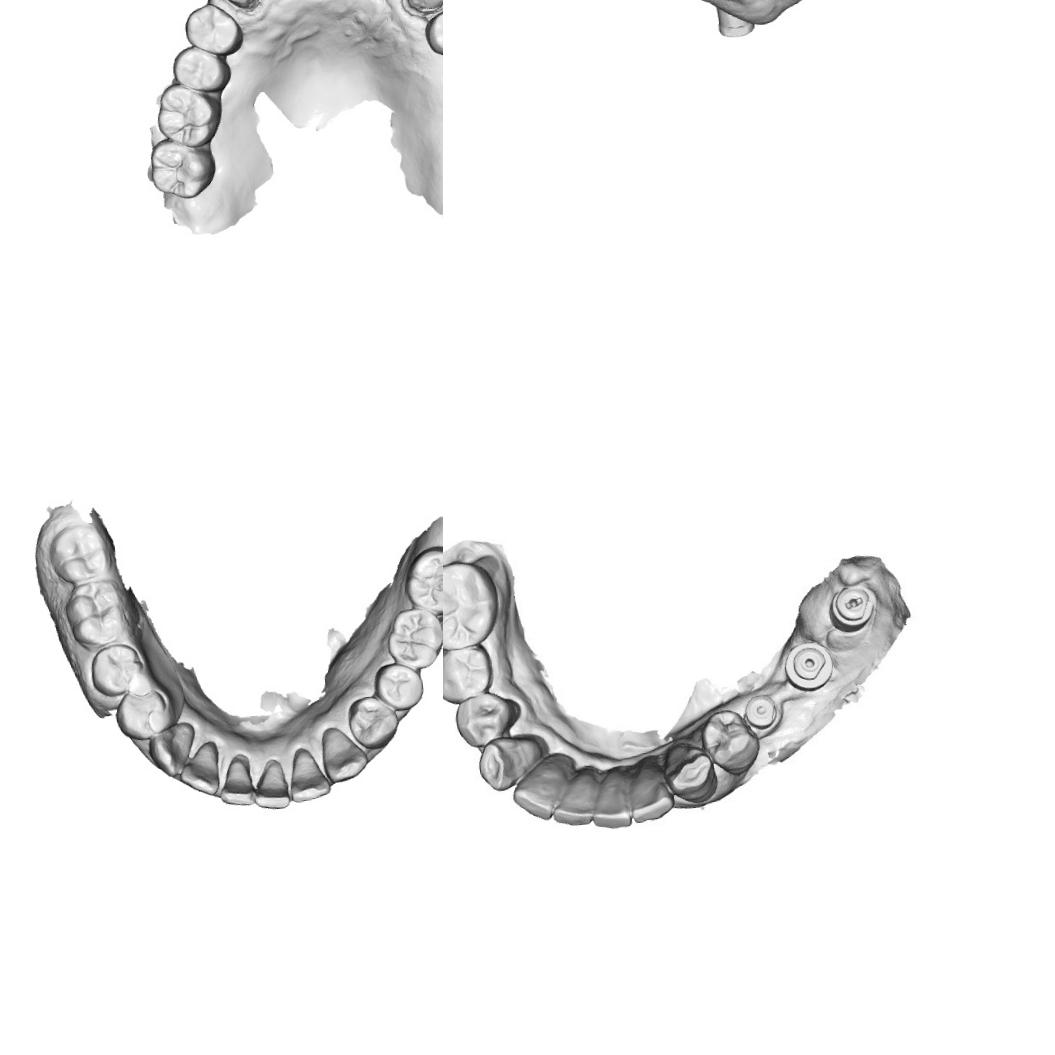canine: (476, 729, 553, 798), (658, 734, 724, 804), (316, 721, 370, 786), (146, 720, 202, 777)
crown: (403, 0, 443, 17), (216, 0, 260, 15)
implant: (781, 638, 838, 697), (737, 688, 784, 737), (715, 6, 756, 41)
implant_minus: (821, 580, 881, 638)
incisor: (507, 758, 576, 826), (587, 752, 637, 829), (624, 750, 676, 822), (552, 763, 604, 824), (248, 751, 292, 812), (178, 742, 222, 800), (288, 746, 331, 804), (212, 754, 256, 810)
molar: (151, 78, 226, 152), (147, 133, 218, 204), (62, 580, 130, 650), (48, 518, 118, 586), (443, 563, 496, 651), (384, 606, 443, 670), (404, 543, 443, 618)
premolar: (701, 706, 762, 778), (180, 0, 246, 62), (168, 41, 234, 100), (454, 686, 522, 743), (115, 686, 176, 742), (344, 691, 400, 750), (443, 645, 493, 708), (88, 641, 144, 697), (371, 658, 425, 714), (420, 0, 443, 60)
